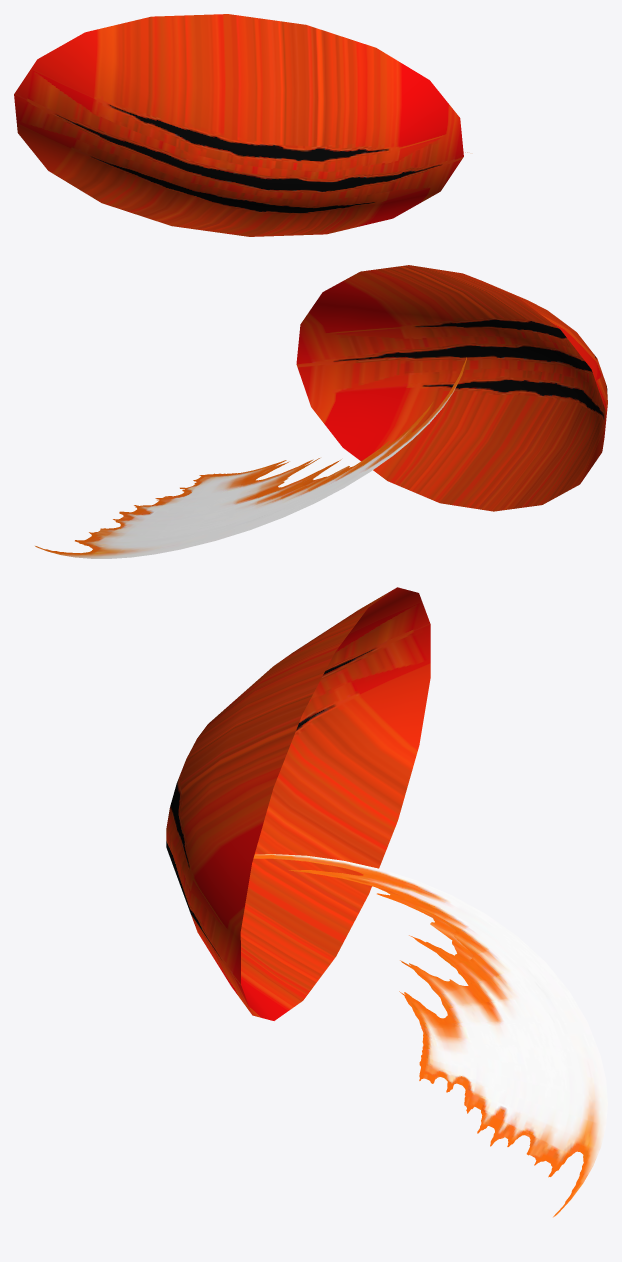
Rendered from fx_cookie0044_skill01.fbx.
The picture shows the model from 3 angles, top to bottom: view 1: azimuth 30°, elevation 25°; view 2: azimuth 150°, elevation 25°; view 3: azimuth 270°, elevation 25°; orthographic projection. The views are drawn at different scales.
Visible parts, largest first — view 1: L_scratch (1); view 2: L_scratch (1), L_scratch2; view 3: L_scratch (1), L_scratch2.
Boxes of the visible parts, <box> form: L_scratch (1): <box>14,14,463,236</box>; L_scratch (1): <box>296,265,607,511</box>; L_scratch2: <box>35,357,466,558</box>; L_scratch (1): <box>166,587,430,1020</box>; L_scratch2: <box>253,854,607,1217</box>.
Bounding box in the file's own units: 796 × 412 × 593.
